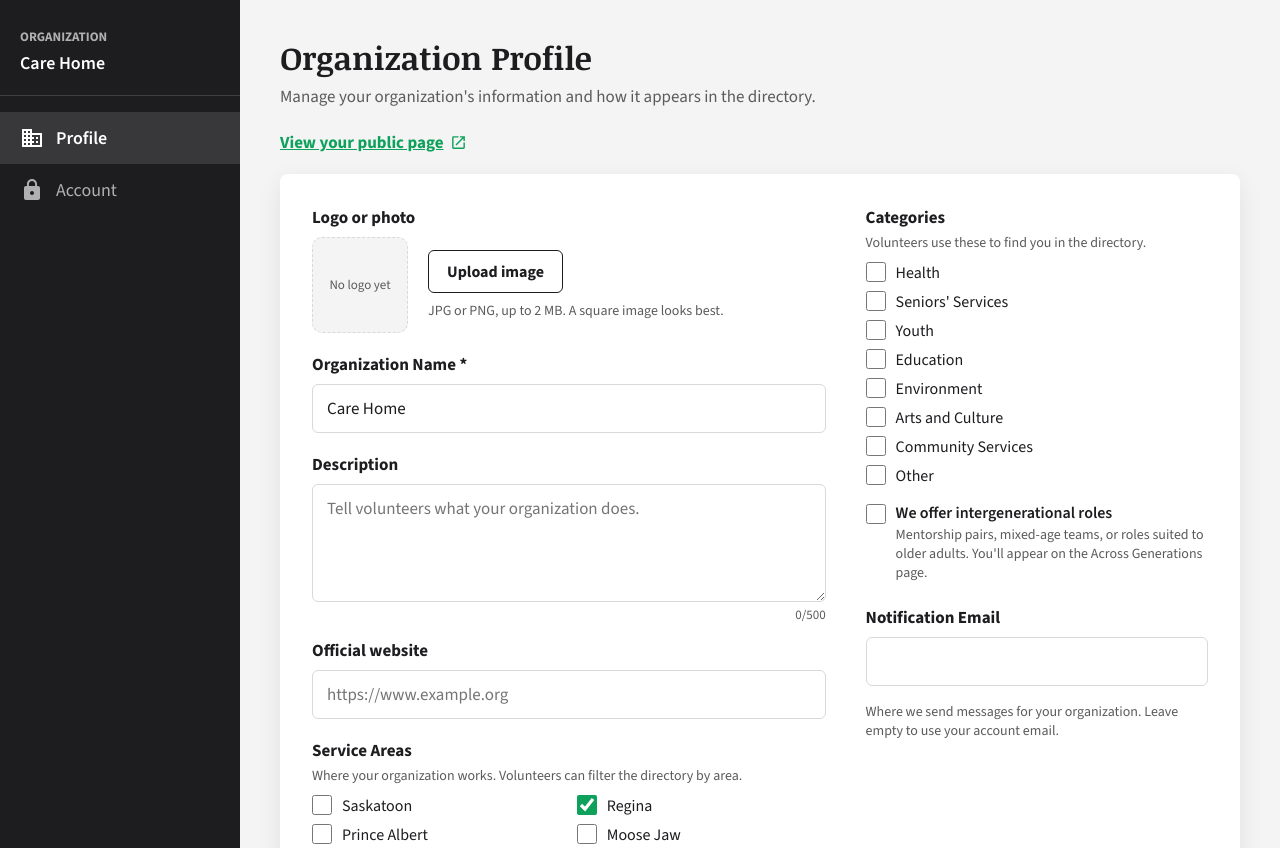
it: opens on the profile and has no help request sections
Check: the field labelled "Organization Name *" is shown, box 312,384 -> 826,433
Click the button "Account".
click(120, 190)  # box 0,164 -> 240,216
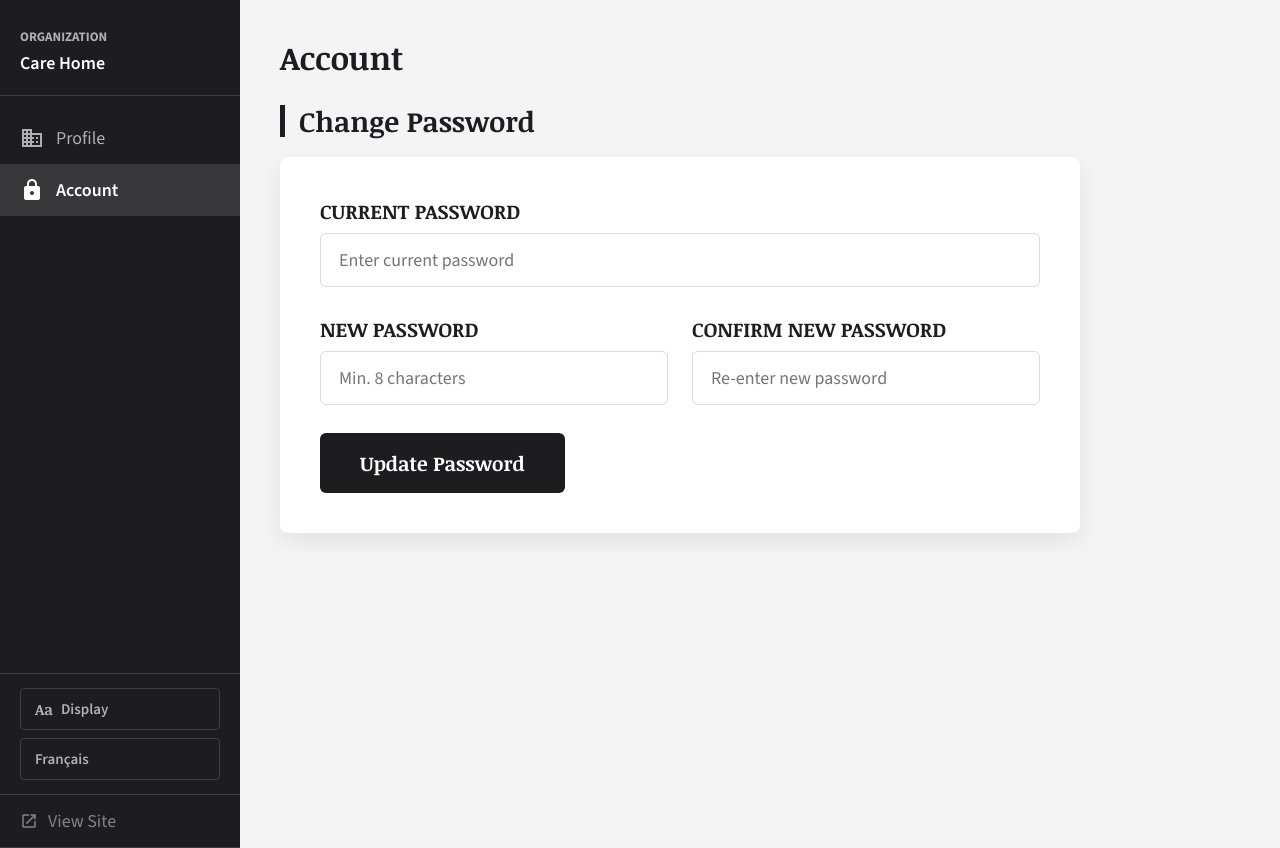
Check: the label labelled "Organization Name" is gone
